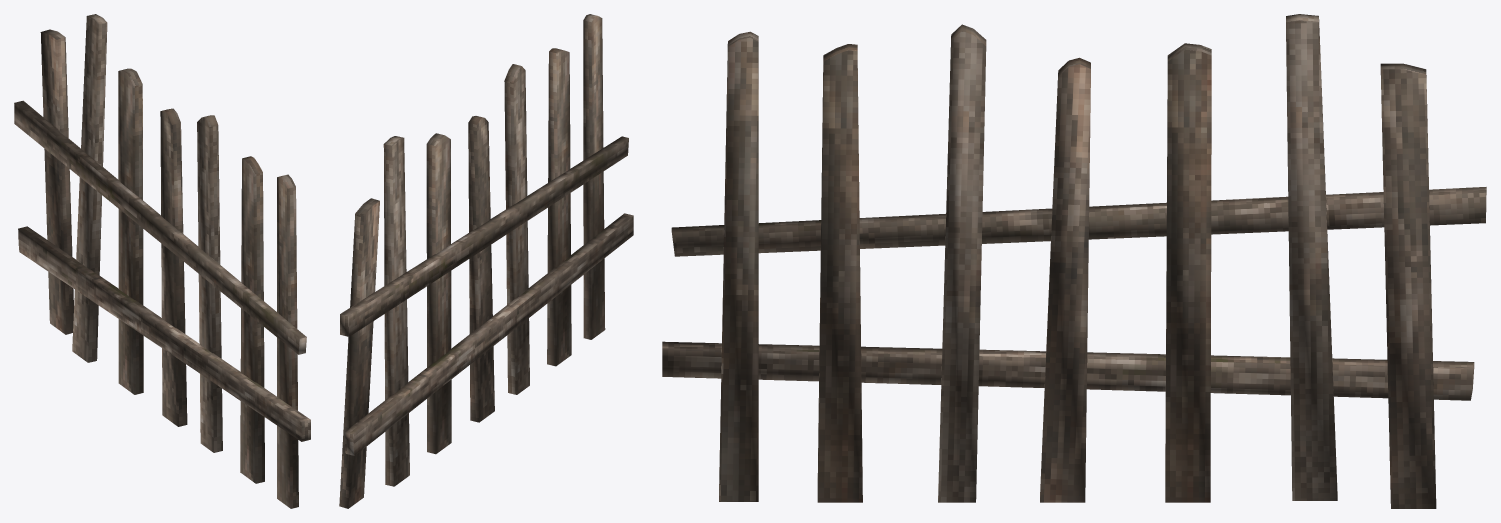
File: big_fence_3.fbx
The picture shows the model from 3 angles, left to right: view 1: azimuth 30°, elevation 25°; view 2: azimuth 150°, elevation 25°; view 3: azimuth 270°, elevation 25°; orthographic projection. The views are drawn at different scales.
Visible parts, largest first — view 1: big_fence_3; view 2: big_fence_3; view 3: big_fence_3.
Boxes of the visible parts, <box> form: big_fence_3: <box>14,14,310,508</box>; big_fence_3: <box>339,14,633,508</box>; big_fence_3: <box>662,14,1486,508</box>.
Bounding box in the file's own units: 23.02 × 416 × 271.
